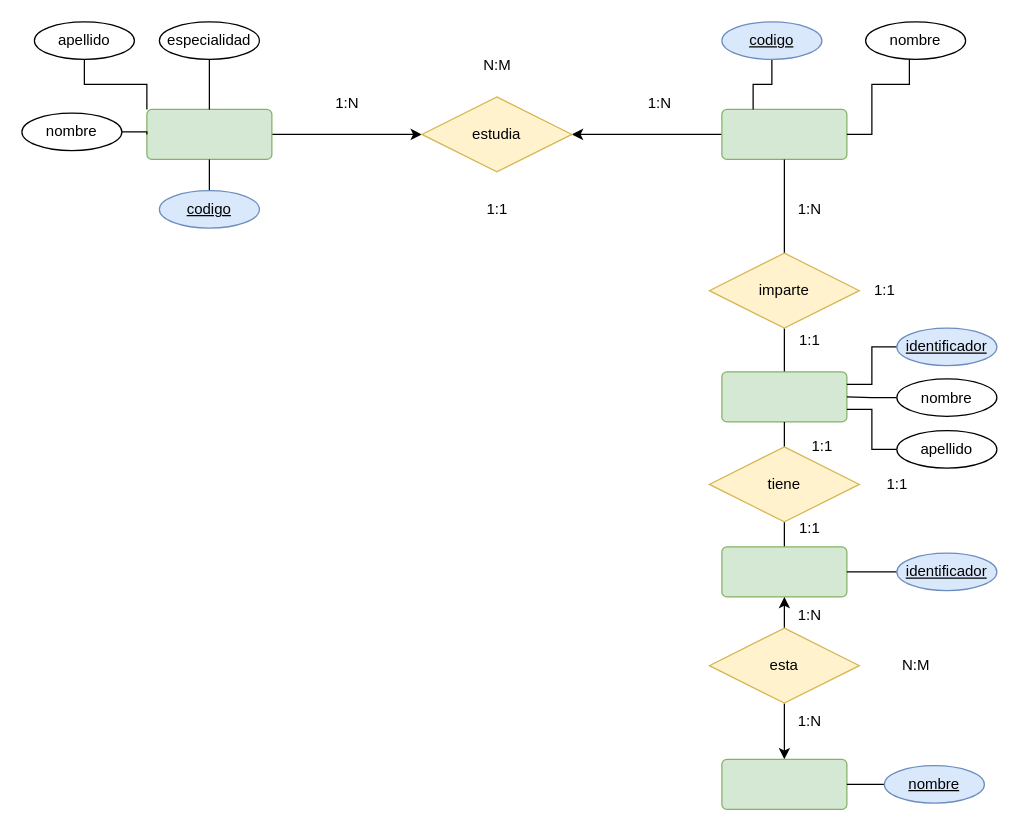
Some shapes in this 1019 by 831 pixel diagram are drawn without their labels. Here are the shapes that lost their labels. From the top down, the centre of each, then its label:
point (209, 133): Alumno
point (784, 133): Curso
point (784, 396): Docente
point (784, 571): Oficina
point (784, 783): Seccion
